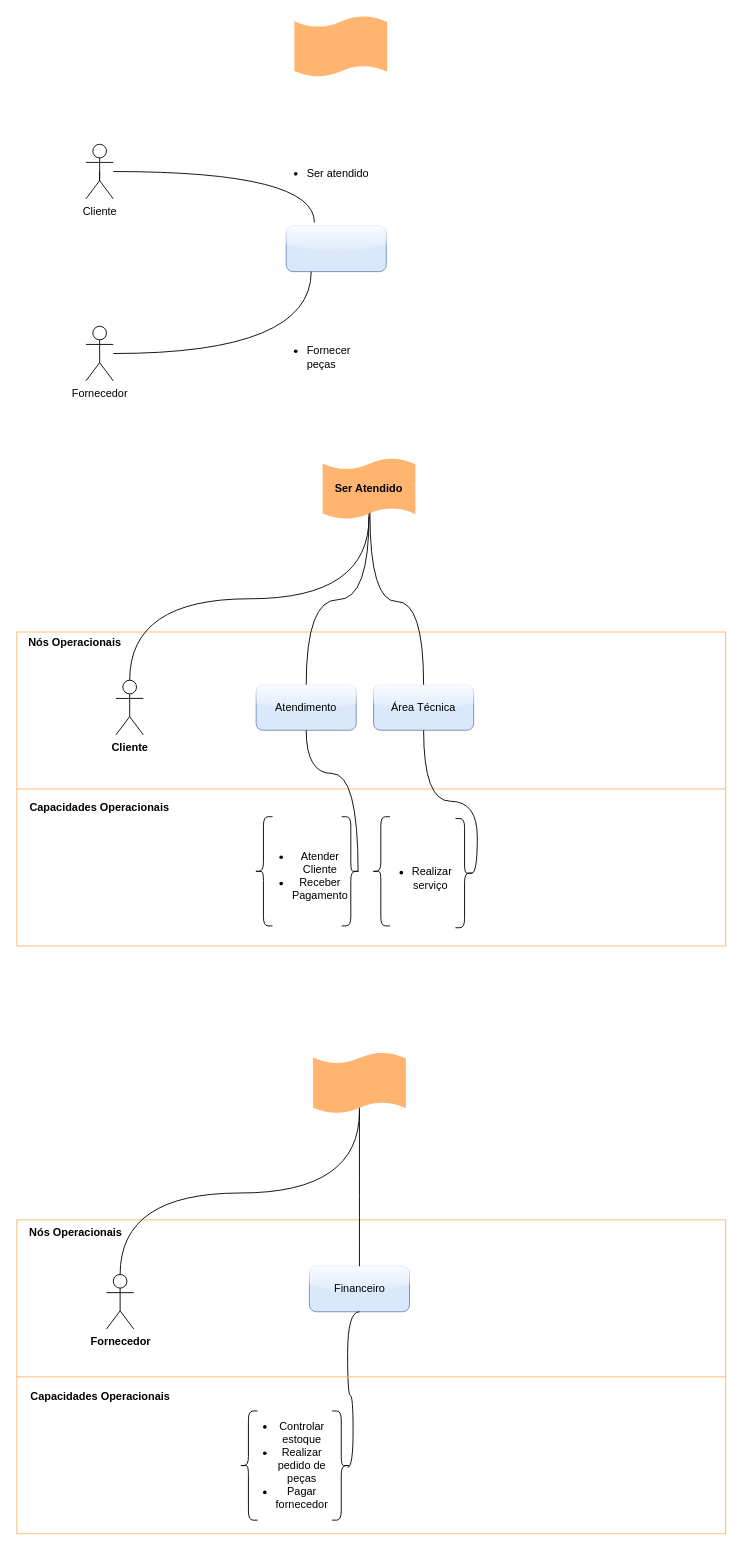
The diagram is 743 pixels wide and 1550 high, and some of its shapes have lost their labels. Here are the shapes that lost their labels. From the top down, the box of each, then its label:
(294, 15, 387, 76): Contexto Bicicletaria
(285, 225, 386, 272): Bicicletaria
(313, 1052, 405, 1113): Suprir negócio
